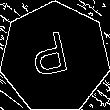P_S: (32, 29, 78, 87)
